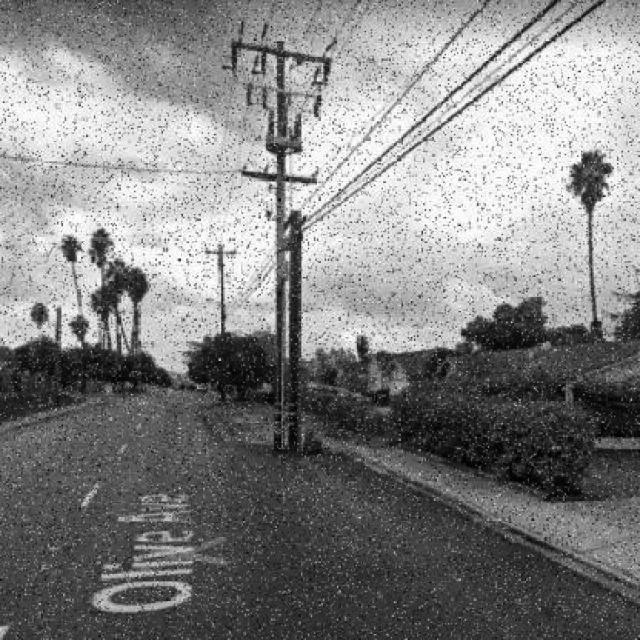crossarm: (232, 43, 331, 64), (243, 170, 317, 184), (206, 250, 235, 256)
pole: (274, 41, 284, 452), (290, 211, 301, 451), (219, 244, 225, 340)
wire: (301, 0, 606, 234), (301, 0, 561, 226), (298, 0, 492, 212), (1, 153, 246, 174), (321, 0, 363, 57)
